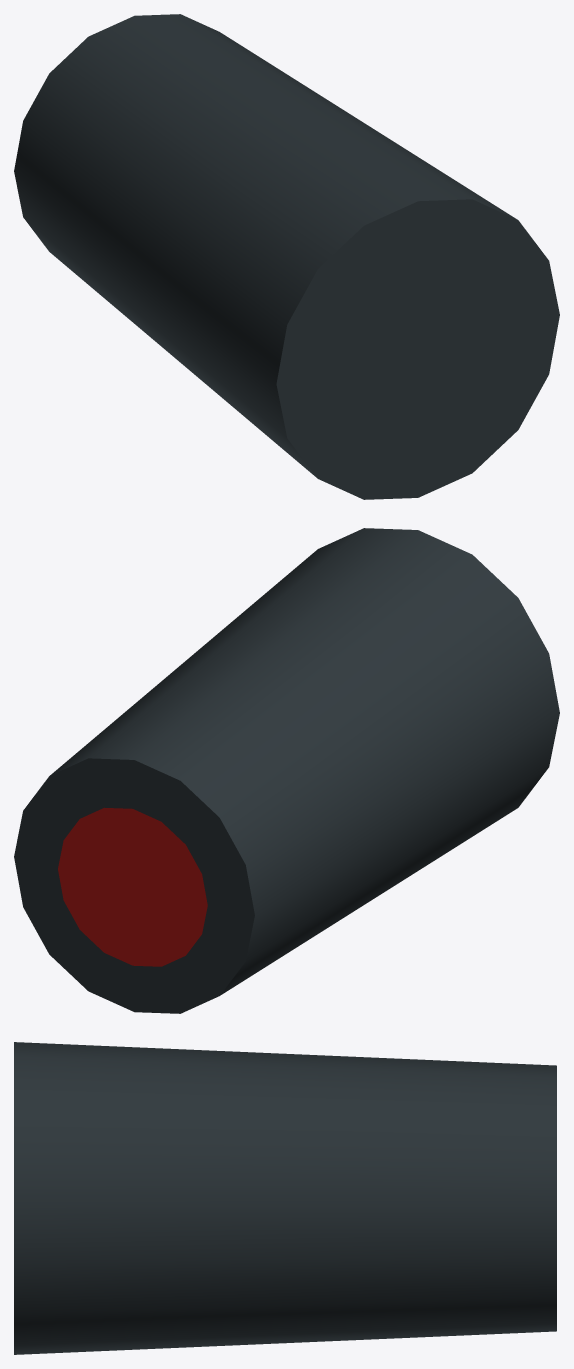
The model's file is large-laser-round.glb.
The picture shows the model from 3 angles, top to bottom: view 1: azimuth 30°, elevation 25°; view 2: azimuth 150°, elevation 25°; view 3: azimuth 270°, elevation 25°; orthographic projection. The views are drawn at different scales.
Visible parts, largest first — view 1: mount; view 2: mount; view 3: mount.
Part boxes in pixels (left/top/right/bottom): mount: left=14, top=14, right=559, bottom=499; mount: left=14, top=528, right=559, bottom=1013; mount: left=14, top=1042, right=556, bottom=1354.
Bounding box in the file's own units: 3 × 3 × 5.23.
